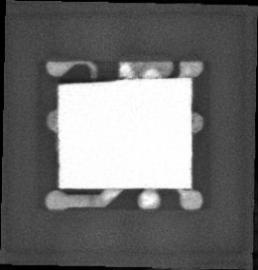DIE_BROKEN: (56, 76, 125, 85)
